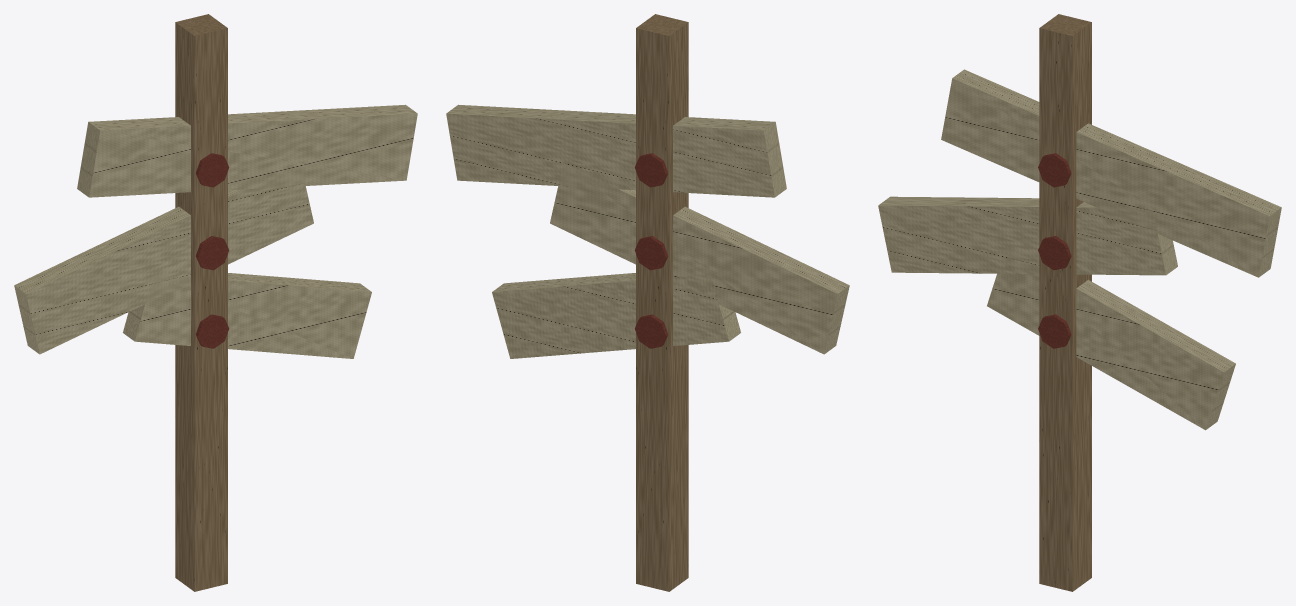
The model's file is medieval_signpost.glb.
The picture shows the model from 3 angles, left to right: view 1: azimuth 30°, elevation 25°; view 2: azimuth 150°, elevation 25°; view 3: azimuth 330°, elevation 25°; orthographic projection.
Parts seen in each view (by area): view 1: medieval_signpost; view 2: medieval_signpost; view 3: medieval_signpost.
Part boxes in pixels (x1,y1,x2,y2): medieval_signpost: [14, 14, 417, 591]; medieval_signpost: [446, 14, 849, 591]; medieval_signpost: [878, 14, 1281, 591].
Bounding box in the file's own units: 1.88 × 2.55 × 0.2.
Materials: 1 (1 with a texture image).
